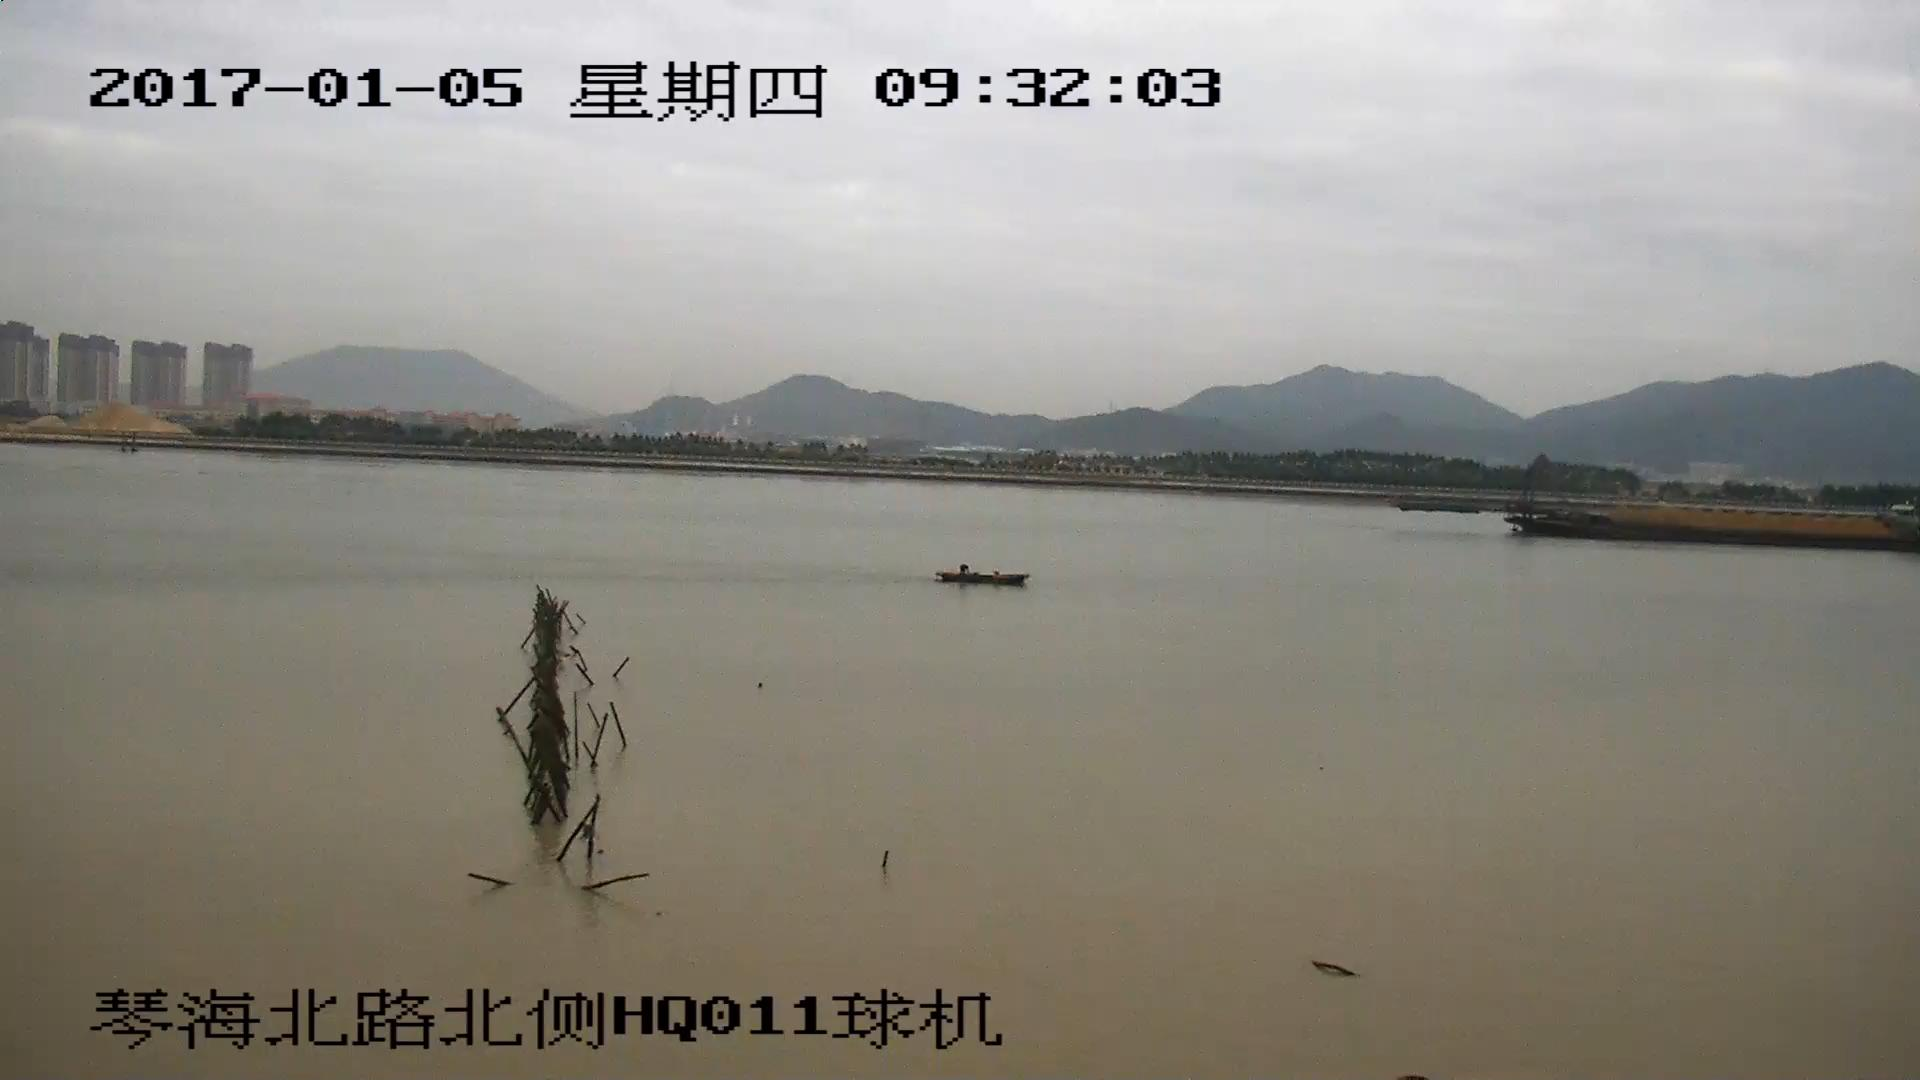fishing boat: (940, 564, 1030, 586)
ore carrier: (1402, 482, 1920, 547)
